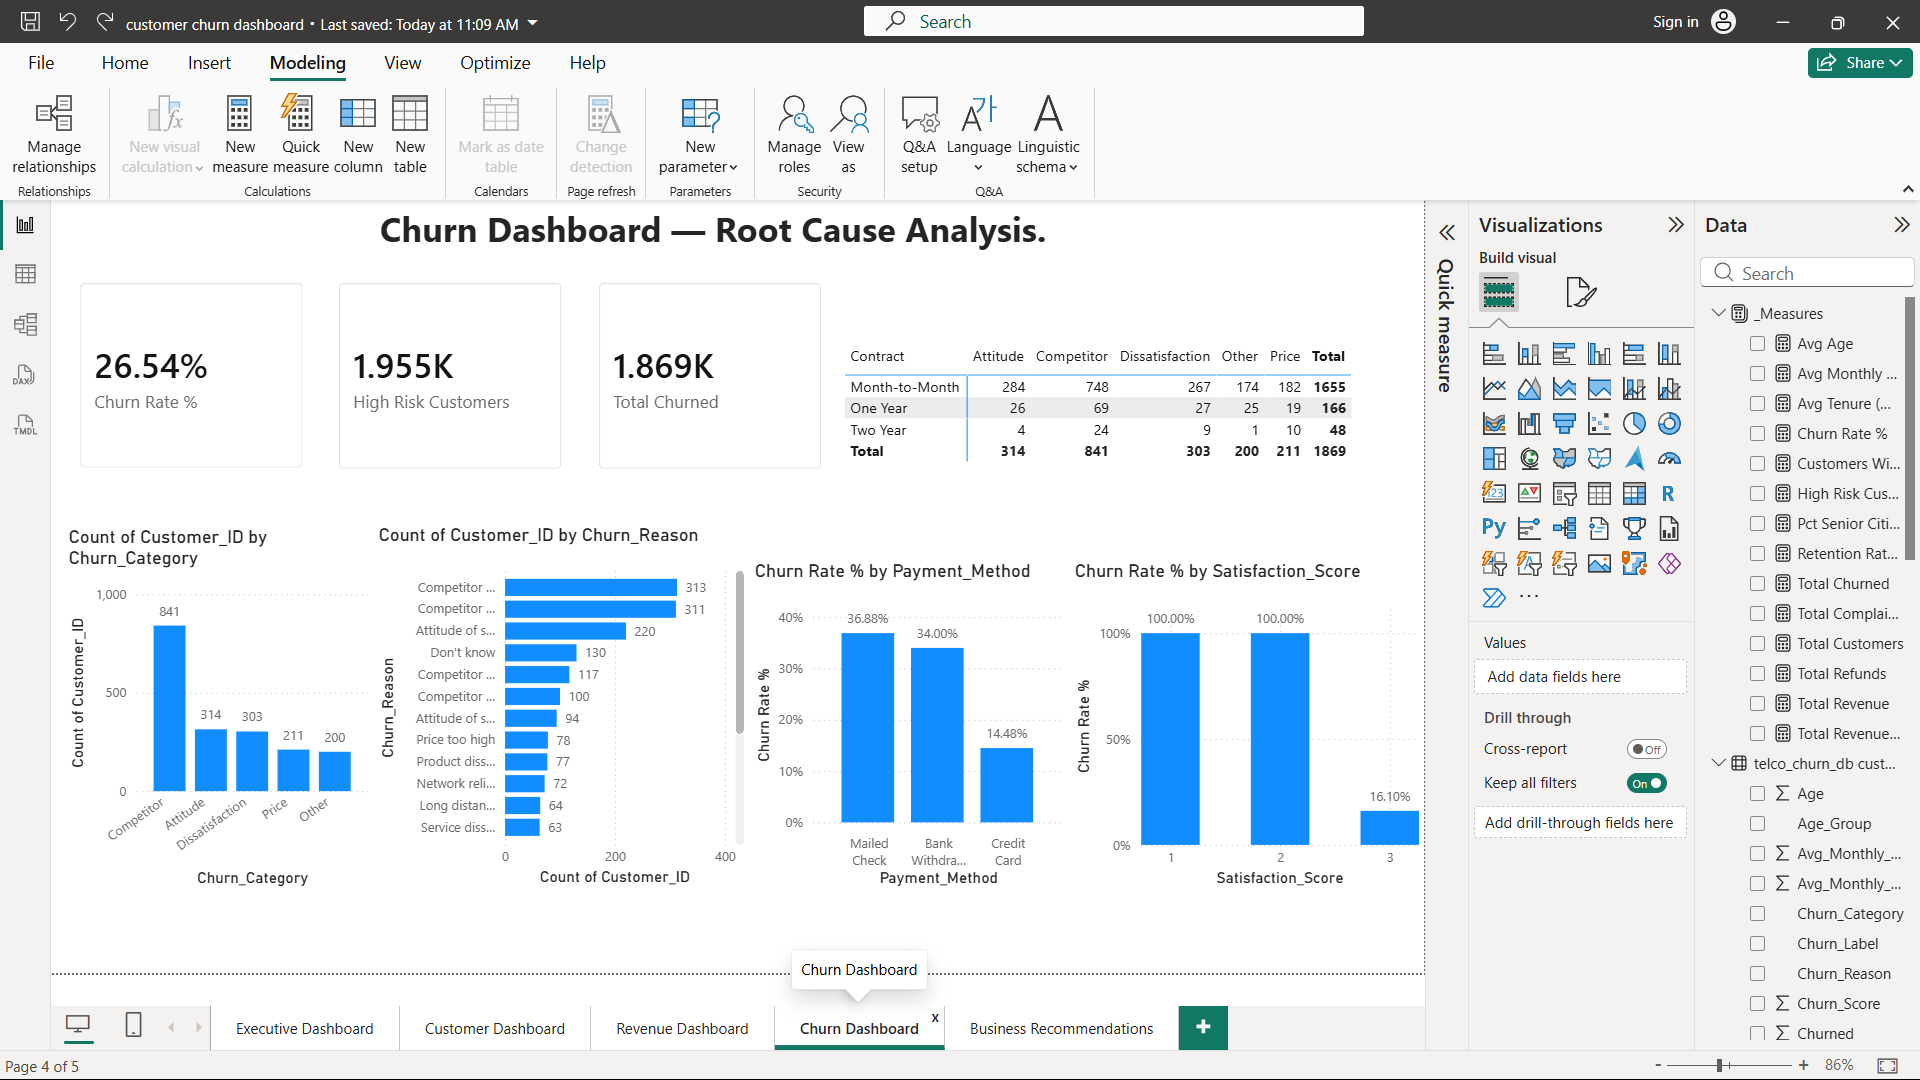

The page's visual inventory and layout, read from the dashboard file:
{"tool":"powerbi","page":{"name":"Churn Dashboard","canvas":[1280,720],"ordinal":3},"visuals":[{"type":"textbox","box":[301.4,0,636.4,52.8],"z":0},{"type":"cardVisual","fields":{"Data":["_Measures.Churn Rate %"]},"box":[10.8,60,241.4,206.5],"z":1000},{"type":"cardVisual","fields":{"Data":["_Measures.High Risk Customers"]},"box":[252.2,60,241,207],"z":2000},{"type":"cardVisual","fields":{"Data":["_Measures.Total Churned"]},"box":[493.5,60,241,207],"z":3000},{"type":"clusteredColumnChart","fields":{"Category":["telco_churn_db customer_churn.Churn_Category"],"Y":["CountNonNull(telco_churn_db customer_churn.Customer_ID)"]},"box":[11.4,303.6,289.4,340.7],"z":4000},{"type":"clusteredBarChart","fields":{"Category":["telco_churn_db customer_churn.Churn_Reason"],"Y":["CountNonNull(telco_churn_db customer_churn.Customer_ID)"]},"box":[300.8,302.2,350.6,342.1],"z":5000},{"type":"clusteredColumnChart","fields":{"Category":["telco_churn_db customer_churn.Payment_Method"],"Y":["_Measures.Churn Rate %"]},"box":[651.4,335,297.9,309.3],"z":6000},{"type":"clusteredColumnChart","fields":{"Y":["_Measures.Churn Rate %"],"Category":["telco_churn_db customer_churn.Satisfaction_Score"]},"box":[949.3,335,330.7,309.3],"z":7000},{"type":"pivotTable","fields":{"Rows":["telco_churn_db customer_churn.Contract"],"Columns":["telco_churn_db customer_churn.Churn_Category"],"Values":["CountNonNull(telco_churn_db customer_churn.Customer_ID)"]},"box":[734.9,128.8,521.1,172.7],"z":8000}]}

Visuals, with their boxes on the page's 1280x720 design canvas (x1, y1, x2, y2). These are canvas units, not pixel positions in the 1920x1080 screenshot, which may show the page scaled, cropped or inside an application window:
textbox: pyautogui.locateOnScreen(301, 0, 938, 53)
cardVisual - _Measures.Churn Rate %: pyautogui.locateOnScreen(11, 60, 252, 266)
cardVisual - _Measures.High Risk Customers: pyautogui.locateOnScreen(252, 60, 493, 267)
cardVisual - _Measures.Total Churned: pyautogui.locateOnScreen(494, 60, 734, 267)
clusteredColumnChart - telco_churn_db customer_churn.Churn_Category x CountNonNull(telco_churn_db customer_churn.Customer_ID): pyautogui.locateOnScreen(11, 304, 301, 644)
clusteredBarChart - telco_churn_db customer_churn.Churn_Reason x CountNonNull(telco_churn_db customer_churn.Customer_ID): pyautogui.locateOnScreen(301, 302, 651, 644)
clusteredColumnChart - telco_churn_db customer_churn.Payment_Method x _Measures.Churn Rate %: pyautogui.locateOnScreen(651, 335, 949, 644)
clusteredColumnChart - _Measures.Churn Rate % x telco_churn_db customer_churn.Satisfaction_Score: pyautogui.locateOnScreen(949, 335, 1280, 644)
pivotTable - telco_churn_db customer_churn.Contract x telco_churn_db customer_churn.Churn_Category: pyautogui.locateOnScreen(735, 129, 1256, 302)
